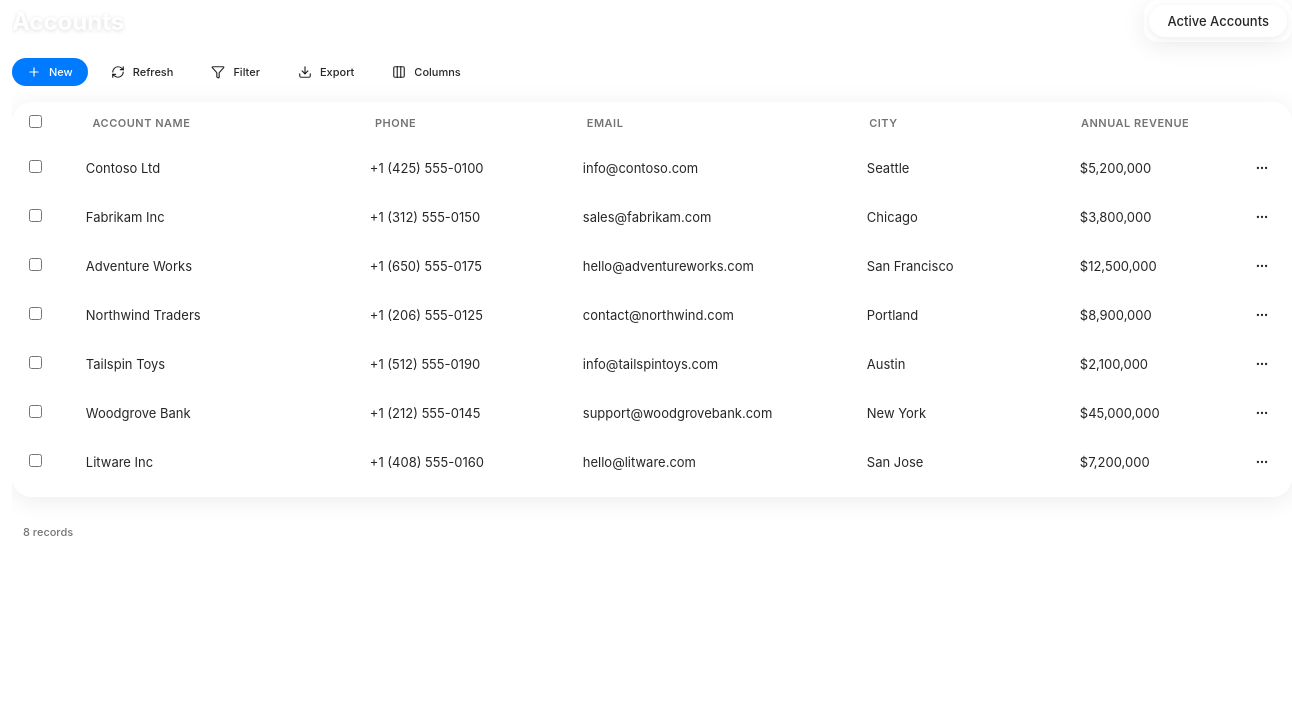
Test: EntityView component › selects all rows with header checkbox
This screenshot has width=1292, height=720.
Expected: the text "Contoso Ltd" is shown, [70,144,354,192]
What coordinates should you click on to do the following:
click the checkbox next to "Account Name"
I would click on:
 (36, 122)
Its box is [29,115,42,128].
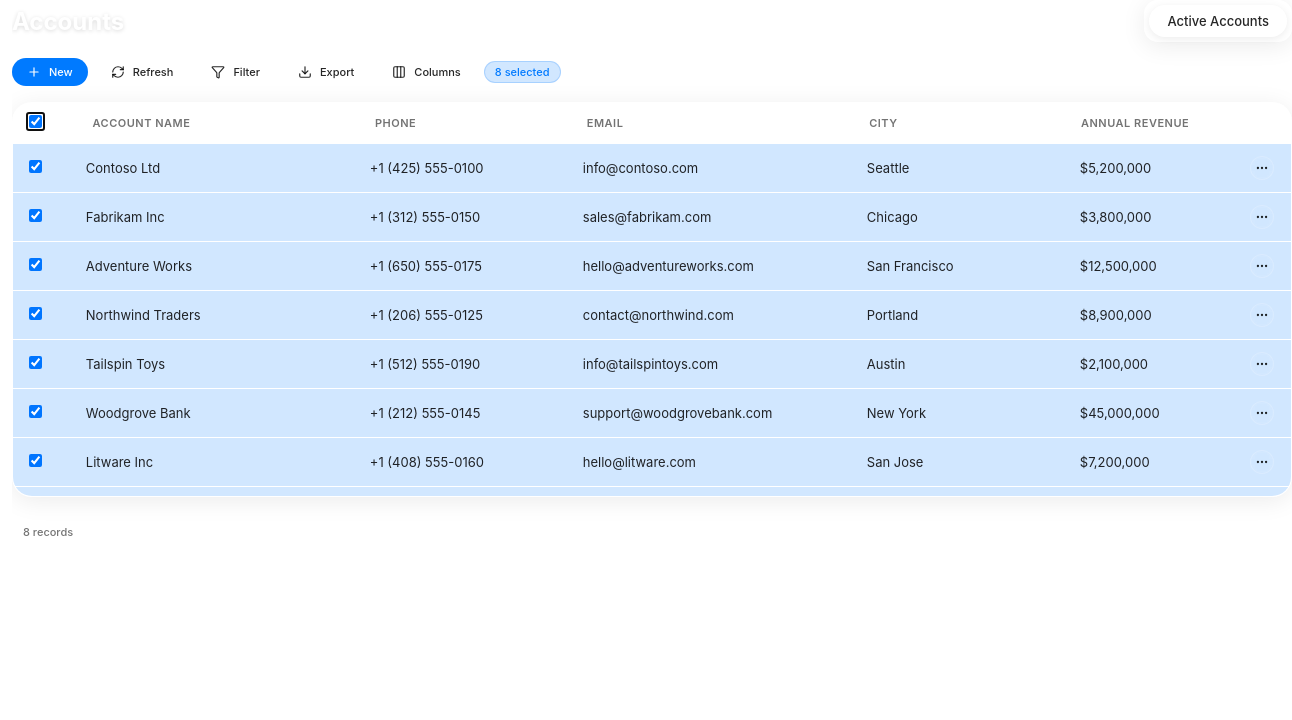
Now the text "8 selected" is shown, box [484,61,561,83]
